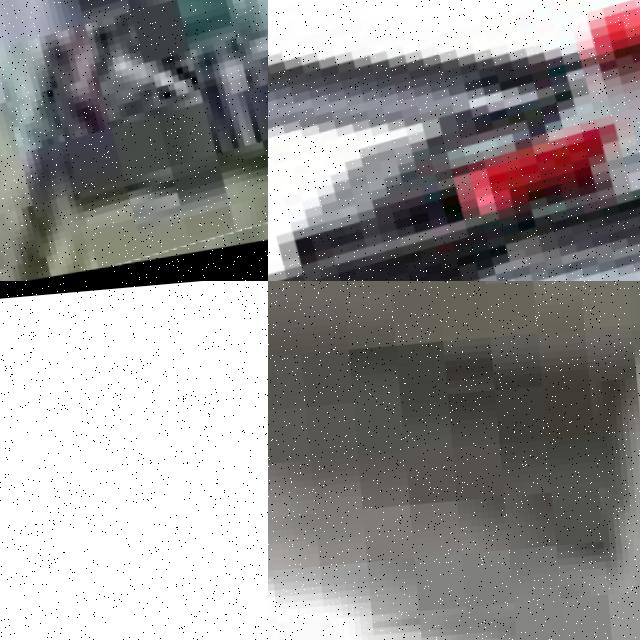0: (0, 0, 268, 281)
drone: (268, 0, 640, 281)
